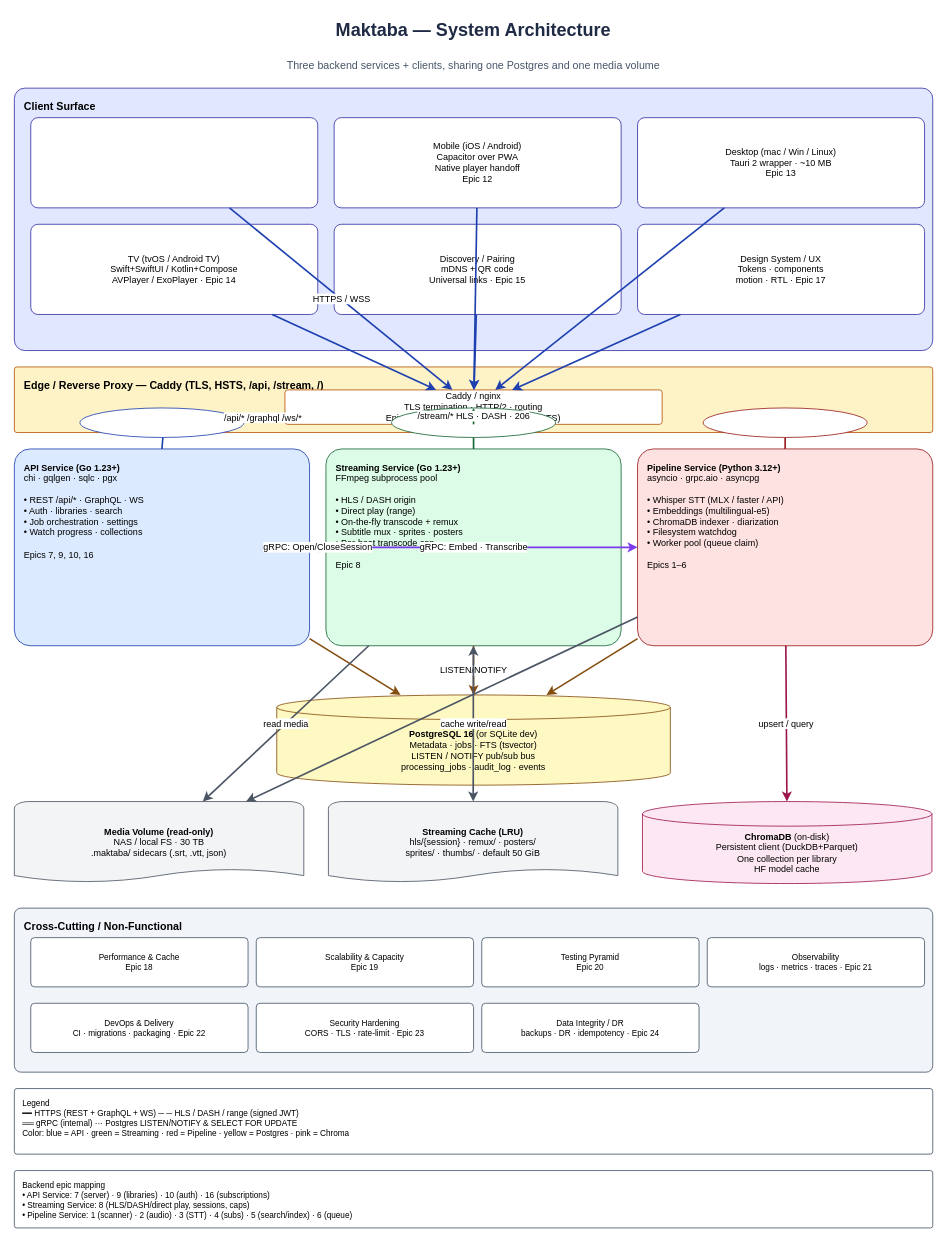
Some shapes in this 947 by 1242 pixel diagram are drawn without their labels. The shapes that lost their labels are listed below. From the top down, each one's centre as x and y in pixels, then its label:
At [174,162]: "Web (PWA) React + Vite + Tailwind Vidstack player Epic 11".
At [161,422]: "REST / GraphQL / WS :8080".
At [473,422]: "HLS / DASH / range :8081 (signed JWT)".
At [784,422]: "gRPC :50051 (internal only)".
